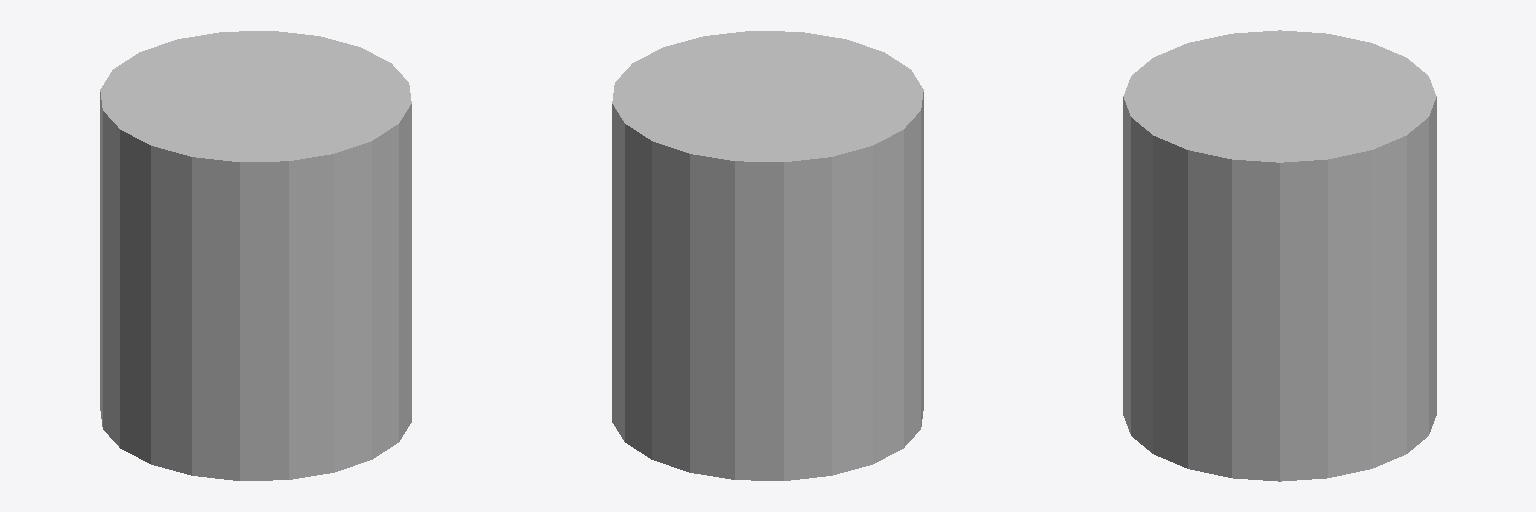
Rendered from EasterEgg7.obj.
The picture shows the model from 3 angles: view 1: azimuth 30°, elevation 25°; view 2: azimuth 150°, elevation 25°; view 3: azimuth 270°, elevation 25°; orthographic projection.
Parts seen in each view (by area): view 1: canned_food_3:pCylinder1; view 2: canned_food_3:pCylinder1; view 3: canned_food_3:pCylinder1.
Boxes of the visible parts, box(x1,y1,x2,y2) form: canned_food_3:pCylinder1: box(100, 31, 411, 480); canned_food_3:pCylinder1: box(612, 31, 923, 480); canned_food_3:pCylinder1: box(1123, 30, 1436, 481).
Bounding box in the file's own units: 0.8226 × 0.924 × 0.8226.